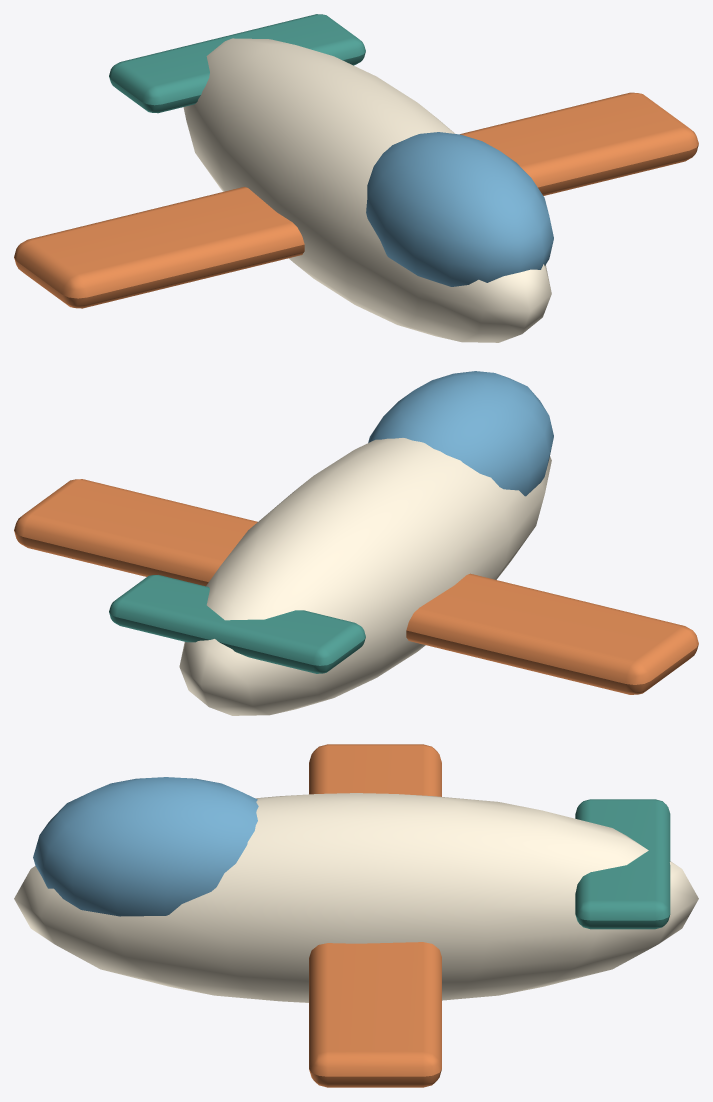
File: word-airplane.glb
3 views of the same model, one above another, from view 1: azimuth 30°, elevation 25°; view 2: azimuth 150°, elevation 25°; view 3: azimuth 270°, elevation 25° (orthographic). The views are drawn at different scales.
Visible parts, largest first — view 1: fuselage, wing, cockpit, tail; view 2: fuselage, wing, cockpit, tail; view 3: fuselage, wing, cockpit, tail.
Boxes of the visible parts, box(x1,y1,x2,y2) form: fuselage: box(183, 38, 551, 342); wing: box(14, 92, 698, 308); cockpit: box(366, 132, 553, 286); tail: box(109, 14, 365, 113); fuselage: box(179, 438, 551, 715); wing: box(14, 479, 698, 694); cockpit: box(368, 371, 553, 496); tail: box(109, 575, 365, 673); fuselage: box(14, 793, 698, 1002); wing: box(309, 744, 441, 1087); cockpit: box(33, 777, 258, 916); tail: box(575, 799, 670, 929).
Size of the model in its own units: 2 by 0.61 by 1.8.
